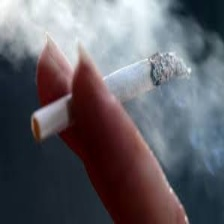smoke: (44, 5, 198, 47), (158, 94, 219, 154)
